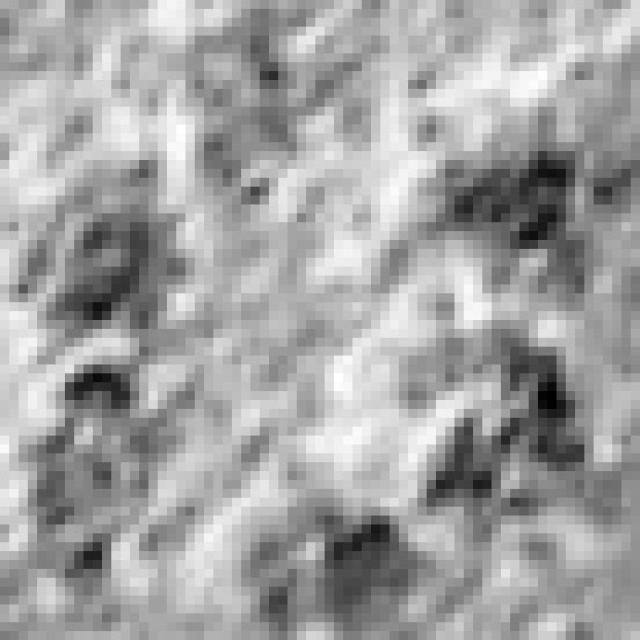inner: (157, 169, 460, 490)
lobe: (401, 321, 597, 526), (419, 105, 606, 306), (19, 362, 183, 589), (13, 157, 198, 339), (180, 10, 340, 215), (237, 487, 437, 633)
outer: (0, 0, 640, 640)
